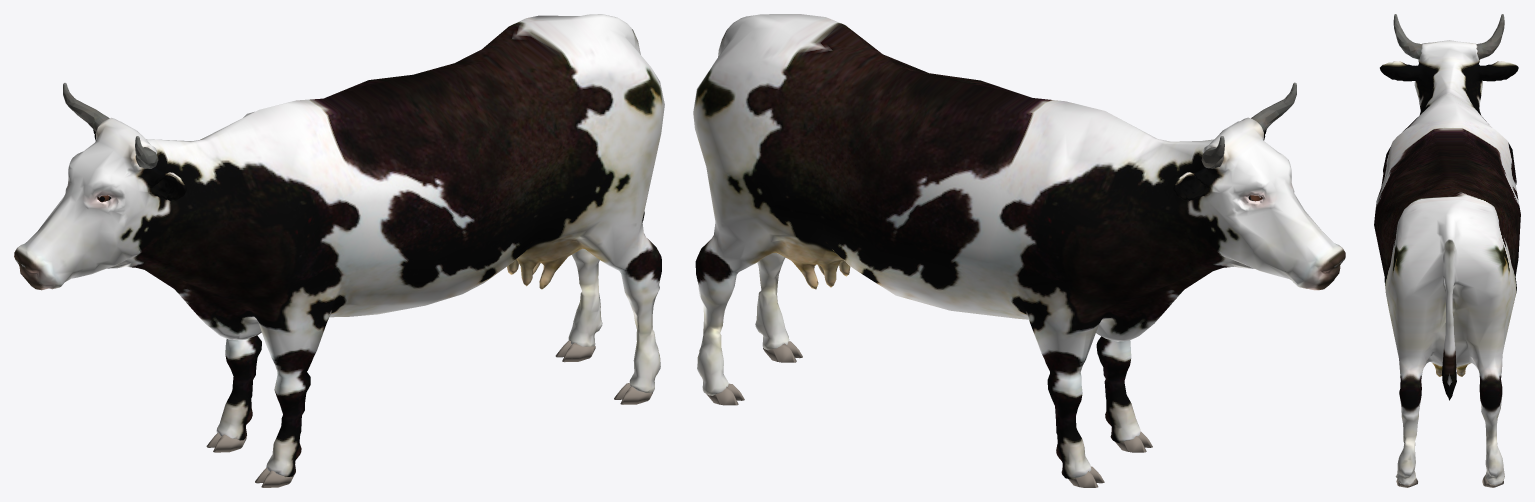
The model's file is cow.glb.
3 renders of one model, left to right at view 1: azimuth 30°, elevation 25°; view 2: azimuth 150°, elevation 25°; view 3: azimuth 270°, elevation 25°, orthographic. The views are drawn at different scales.
Parts seen in each view (by area): view 1: 3DSMeshMatrix (×2); view 2: 3DSMeshMatrix (×2); view 3: 3DSMeshMatrix (×2).
Part boxes in pixels (x1=…): 3DSMeshMatrix (×2): x1=14, y1=14, x2=664, y2=476; 3DSMeshMatrix (×2): x1=693, y1=14, x2=1345, y2=479; 3DSMeshMatrix (×2): x1=1374, y1=14, x2=1520, y2=485.
Bounding box in the file's own units: 1220 × 731 × 338.
Materials: 4 (3 with a texture image).
